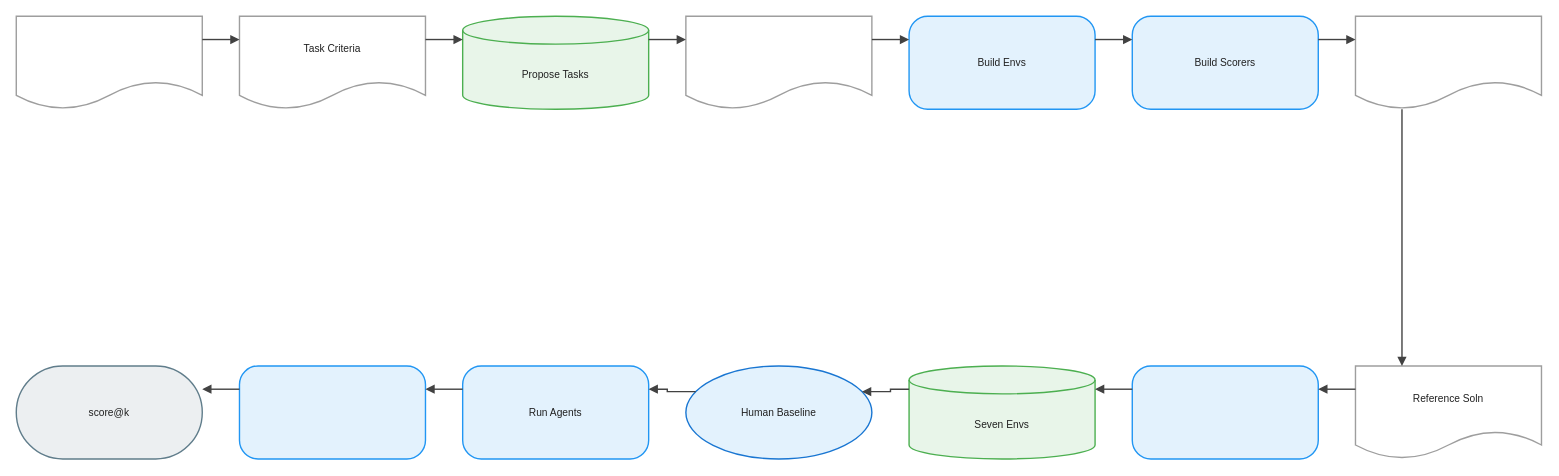
This 1559x476 diagram has some shape labels left out. Each missing label, with the box of its shape:
Normalize: (238, 365, 426, 459)
Pilot Tasks: (1131, 365, 1319, 459)
Specify Tasks: (685, 15, 872, 110)
Starting Soln: (1354, 15, 1542, 110)
Warning Goal: (15, 15, 203, 110)
